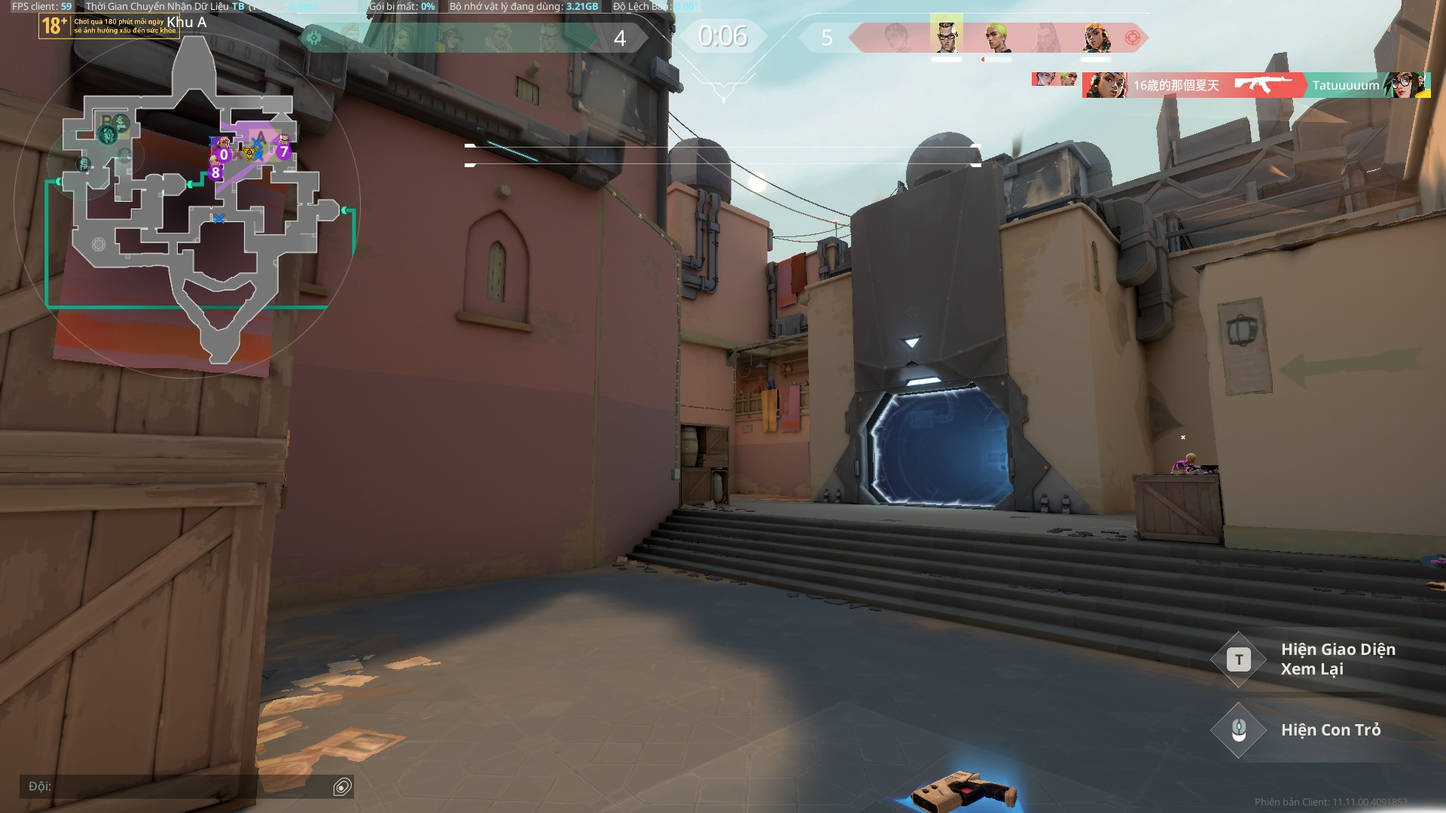body: (1171, 459, 1194, 474)
head: (1185, 451, 1195, 463)
